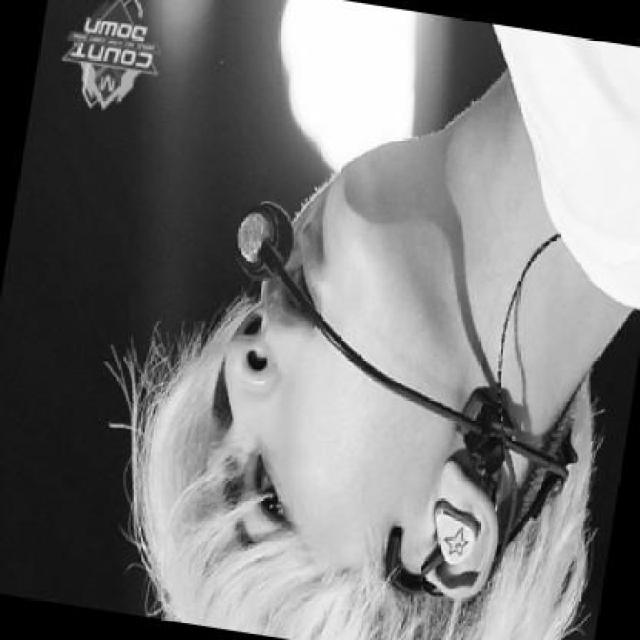earphone: (422, 489, 500, 569)
